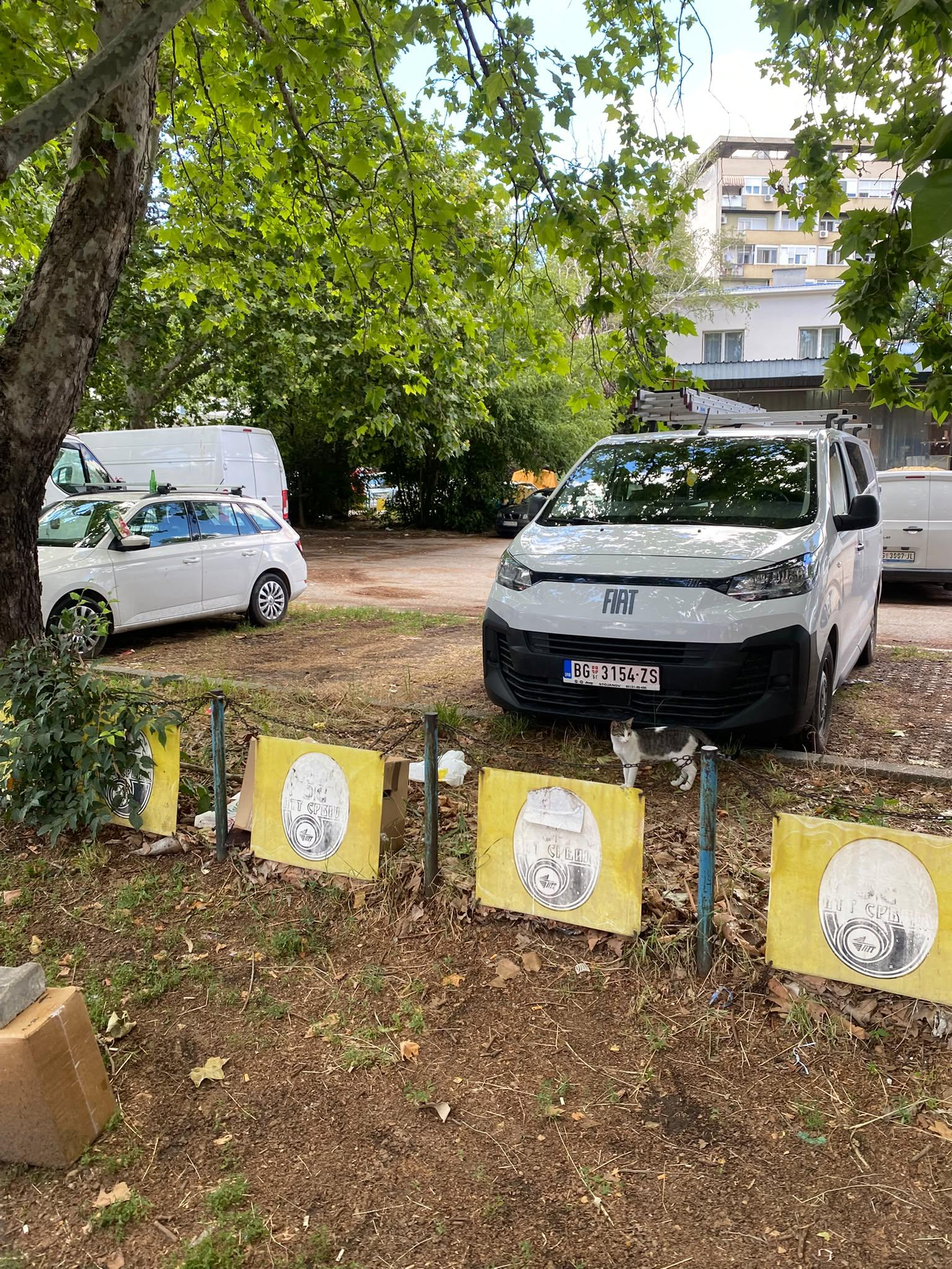macka: (610, 718, 697, 791)
